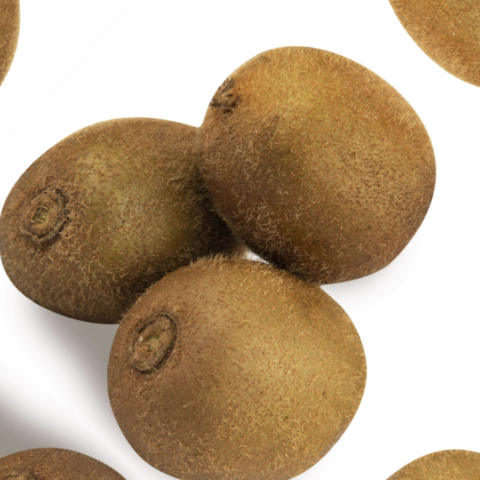kiwi: (37, 171, 430, 480), (145, 0, 480, 347), (0, 69, 294, 415)
